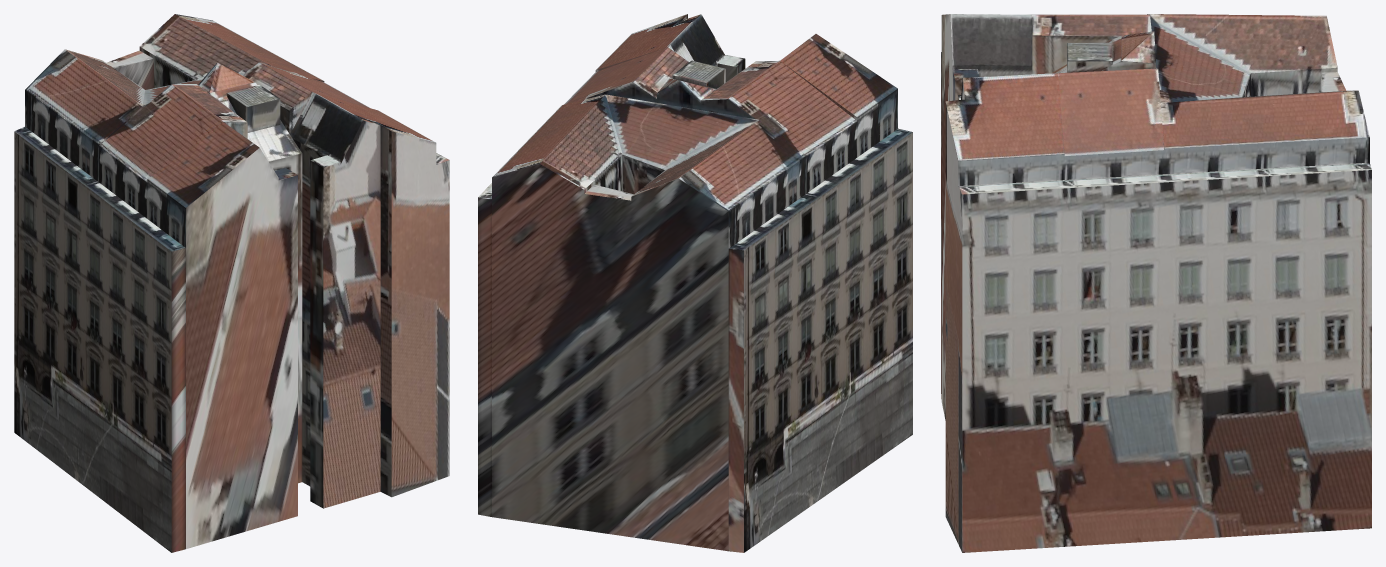
3 views of the same model, side by side, from view 1: azimuth 30°, elevation 25°; view 2: azimuth 150°, elevation 25°; view 3: azimuth 270°, elevation 25° (orthographic). The views are drawn at different scales.
Visible parts, largest first — view 1: Z_UP; view 2: Z_UP; view 3: Z_UP.
Boxes of the visible parts, <box> form: Z_UP: <box>14,14,449,552</box>; Z_UP: <box>478,14,912,552</box>; Z_UP: <box>941,14,1371,552</box>.
Bounding box in the file's own units: 20.97 × 27.02 × 23.98.
2 materials, 1 textured.
